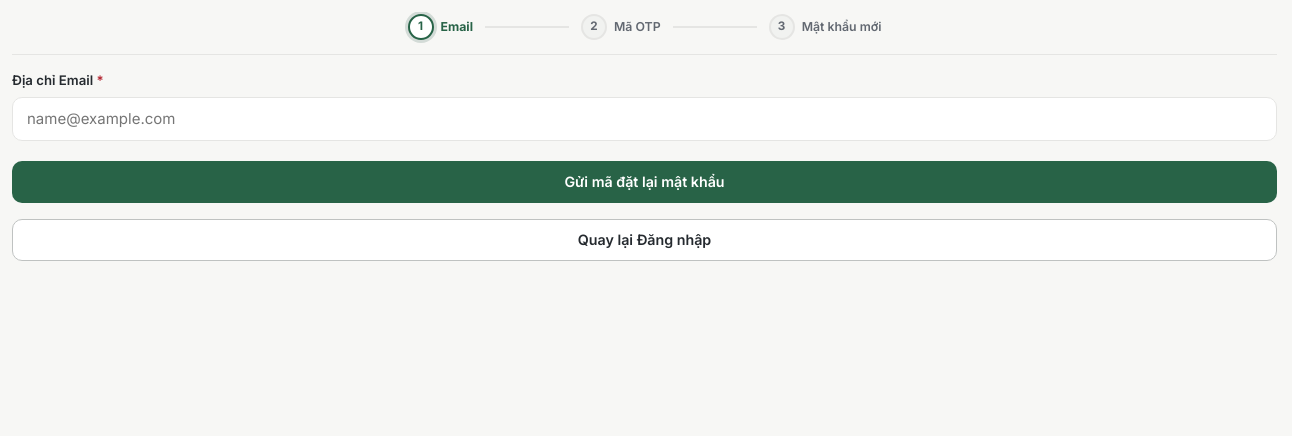
Test: login and reset OTP › allows cancelling OTP to edit the email, without resetting a password
Type "first@example.invalid" into the field labelled "Địa chỉ Email *" at {"x": 644, "y": 119}, box [12,97,1277,141]
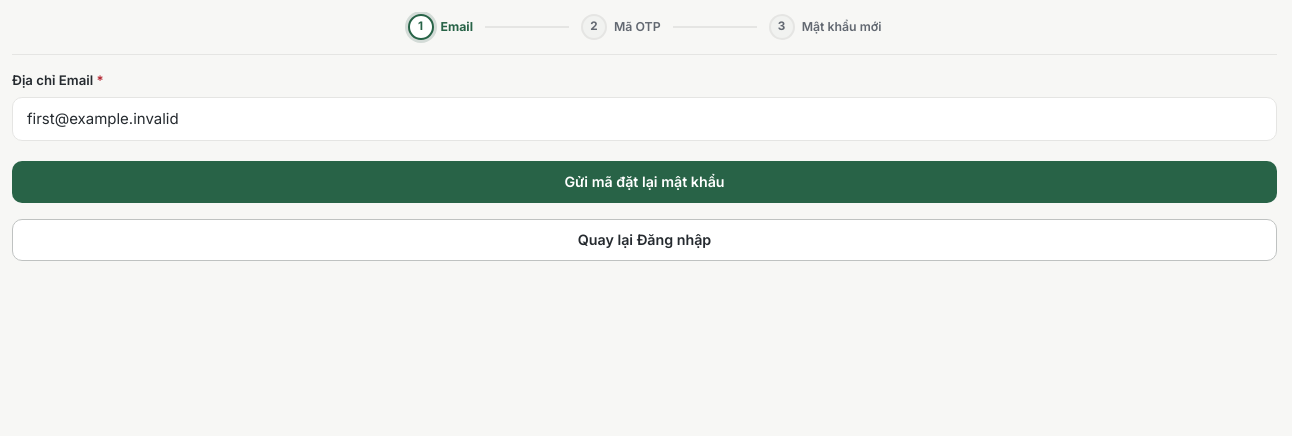
Click the button "Gửi mã đặt lại mật khẩu" at {"x": 644, "y": 182}, box [12,161,1277,203]
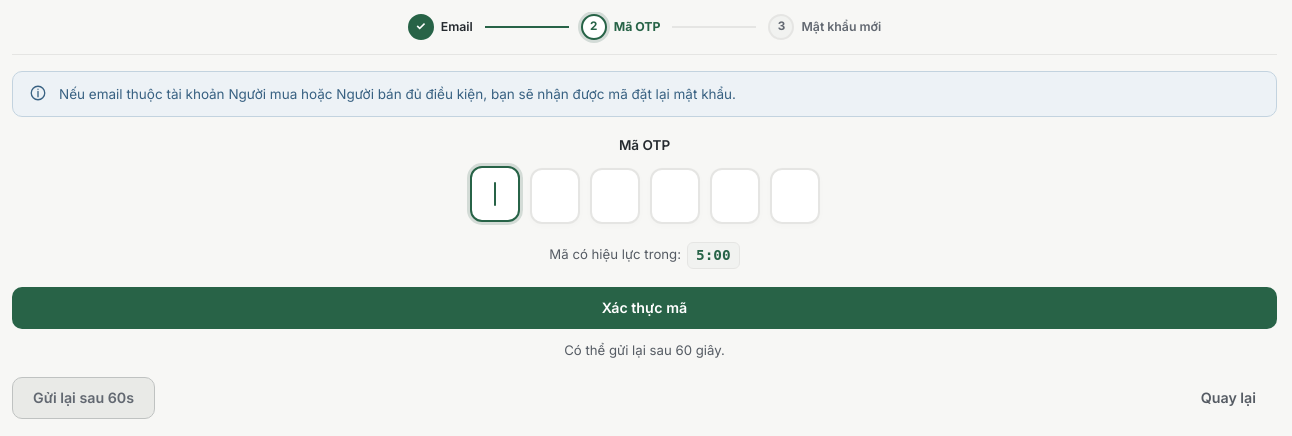
Now the label labelled "Mã OTP" is shown, box [619,137,670,153]
Click the button "Quay lại" at {"x": 1228, "y": 398}, box [1180,377,1277,419]
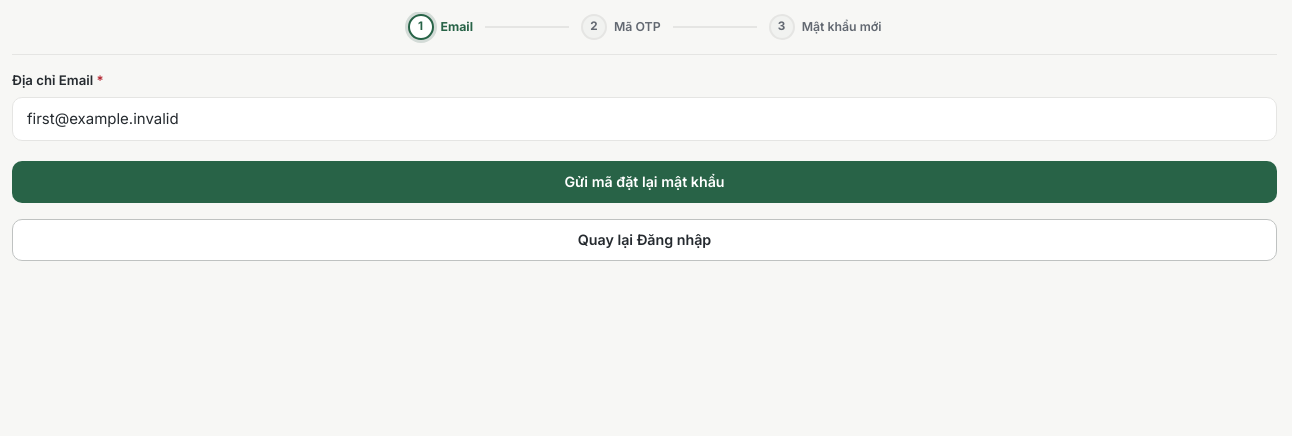
Now the field labelled "Địa chỉ Email *" holds "first@example.invalid", box [12,97,1277,141]
